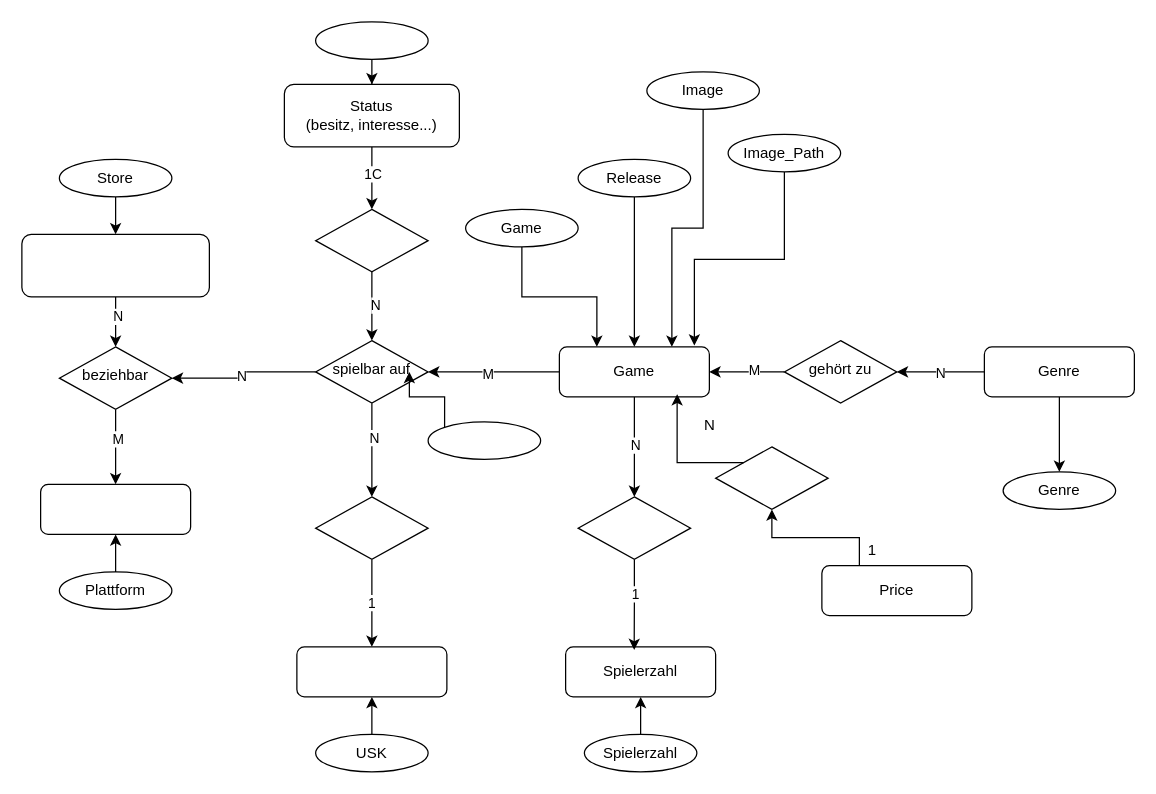
This 1156x794 diagram has some shape labels left out. The shapes that lost their labels are listed below. From the top down, each one's box as (x1, y1, x2, y2) in pixels, then its label:
(314, 21, 428, 59): Status
(314, 208, 428, 272): verfügbar
(21, 233, 209, 297): Store (Steam, EpicGames..)
(427, 421, 541, 459): Description
(714, 446, 828, 509): kostet
(39, 483, 191, 534): Plattform (PC,Xbox, PS5)
(314, 496, 428, 559): mit
(577, 496, 691, 559): hat
(296, 646, 447, 697): Altersangabe
